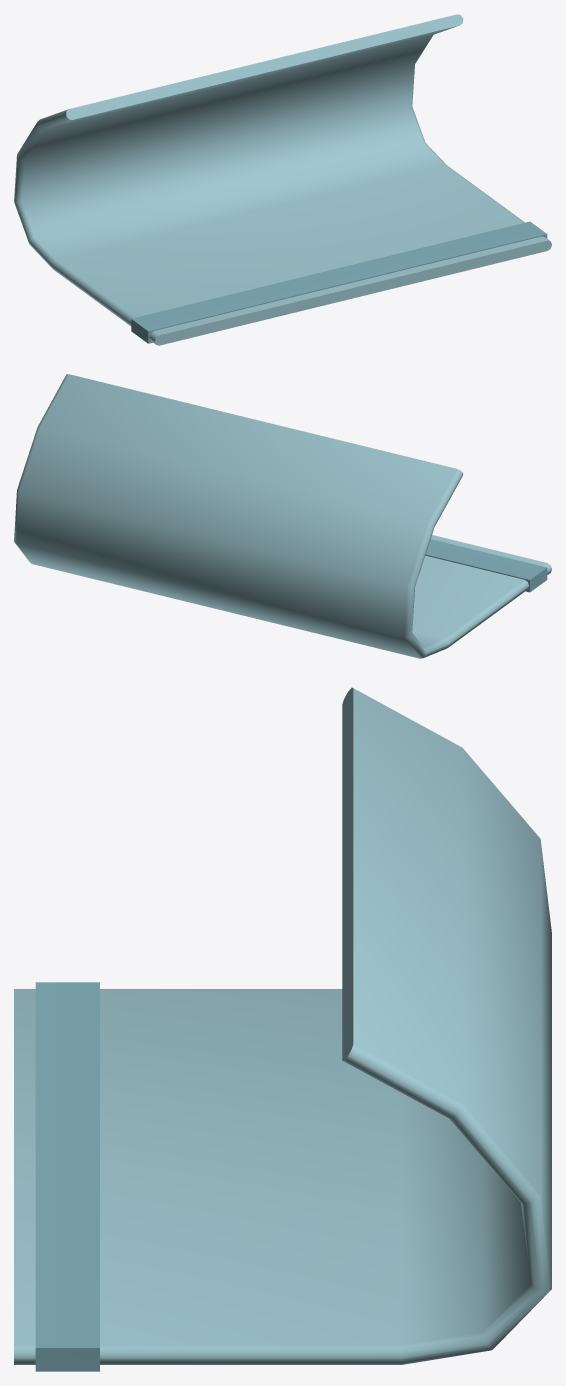
File: washingPiece.glb
The picture shows the model from 3 angles, top to bottom: view 1: azimuth 30°, elevation 25°; view 2: azimuth 150°, elevation 25°; view 3: azimuth 270°, elevation 25°; orthographic projection. The views are drawn at different scales.
Parts seen in each view (by area): view 1: washingPiece; view 2: washingPiece; view 3: washingPiece.
Boxes of the visible parts, box(x1,y1,x2,y2) form: washingPiece: box(14, 14, 551, 345); washingPiece: box(14, 374, 551, 658); washingPiece: box(14, 687, 551, 1371).
Bounding box in the file's own units: 0.402 × 0.1653 × 0.2498.
